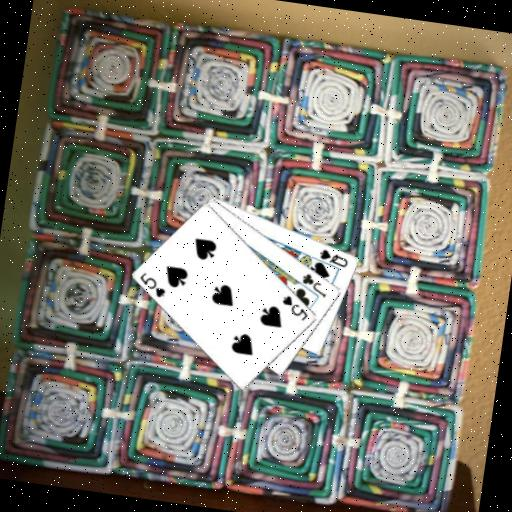5S: (278, 291, 313, 323), (135, 269, 170, 301)
JC: (297, 270, 331, 299)
QS: (316, 246, 352, 270)
